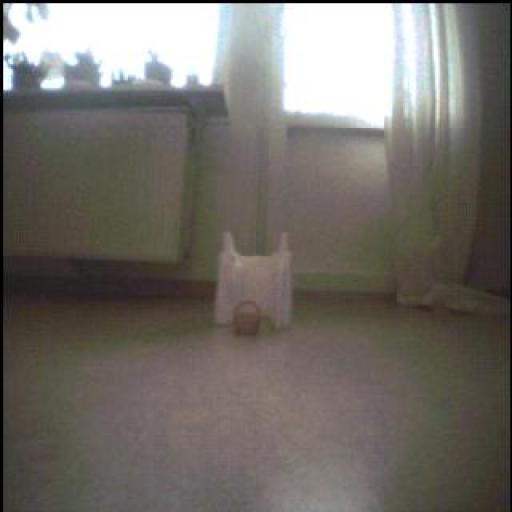Basket: (235, 302, 262, 337)
